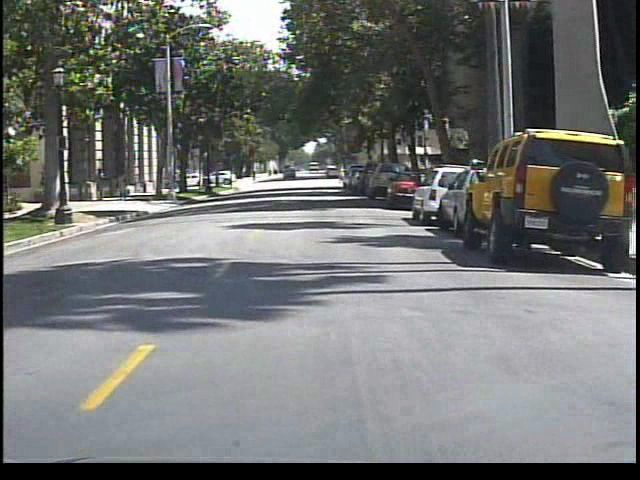person: (114, 169, 137, 203), (94, 167, 114, 205), (337, 164, 351, 189)
